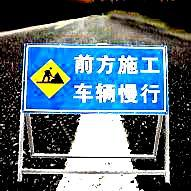sign: (23, 43, 166, 115)
